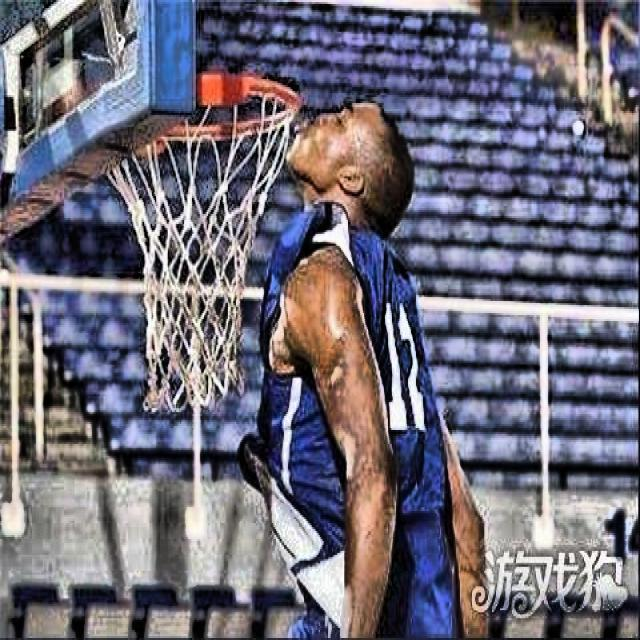rim: (109, 74, 299, 411)
